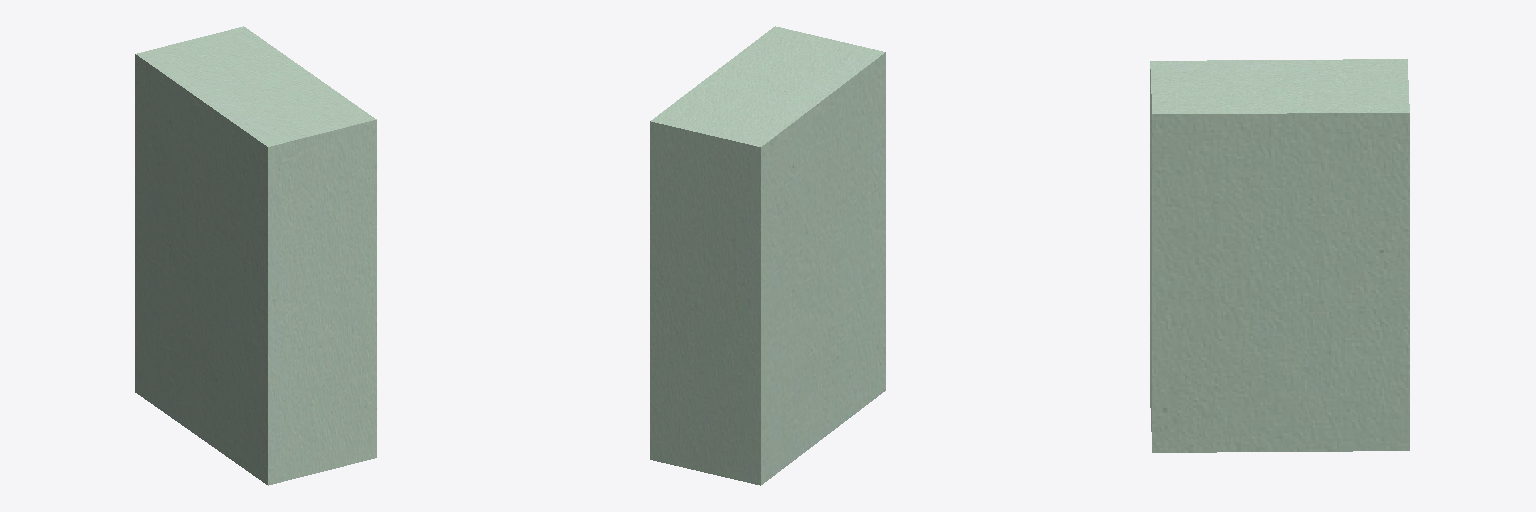
3 views of the same model, side by side, from view 1: azimuth 30°, elevation 25°; view 2: azimuth 150°, elevation 25°; view 3: azimuth 270°, elevation 25° (orthographic).
Parts seen in each view (by area): view 1: pCube12; view 2: pCube12; view 3: pCube12.
Boxes of the visible parts, x1,y1,x2,y2 form: pCube12: [135, 26, 376, 485]; pCube12: [650, 26, 885, 485]; pCube12: [1150, 59, 1409, 452].
Size of the model in its own units: 1.33 by 3.79 by 2.63.
1 materials, 1 textured.